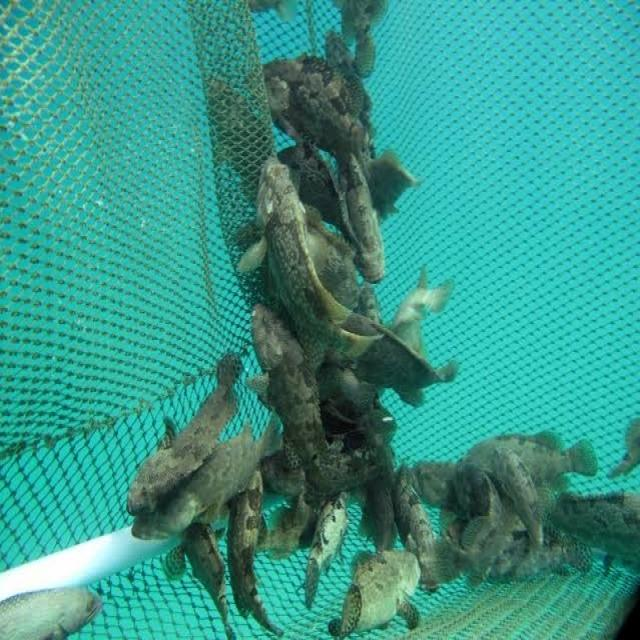grouper: (238, 151, 378, 366), (126, 349, 246, 518), (130, 413, 284, 542), (242, 300, 330, 478), (223, 467, 287, 638), (325, 550, 425, 640), (334, 148, 389, 286), (489, 444, 555, 550), (394, 464, 441, 584)
